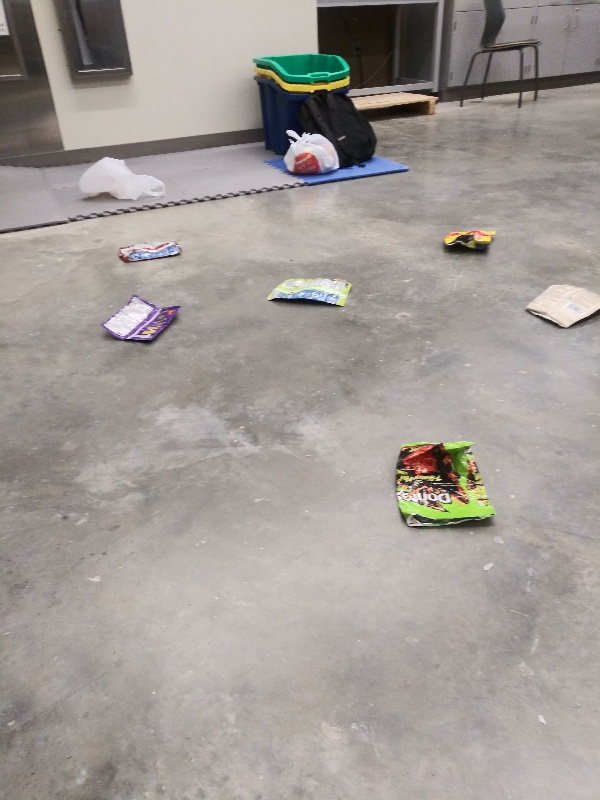bag: (392, 439, 498, 530), (99, 292, 184, 347), (523, 283, 600, 331), (264, 273, 356, 313), (113, 235, 184, 264), (438, 228, 497, 252)
